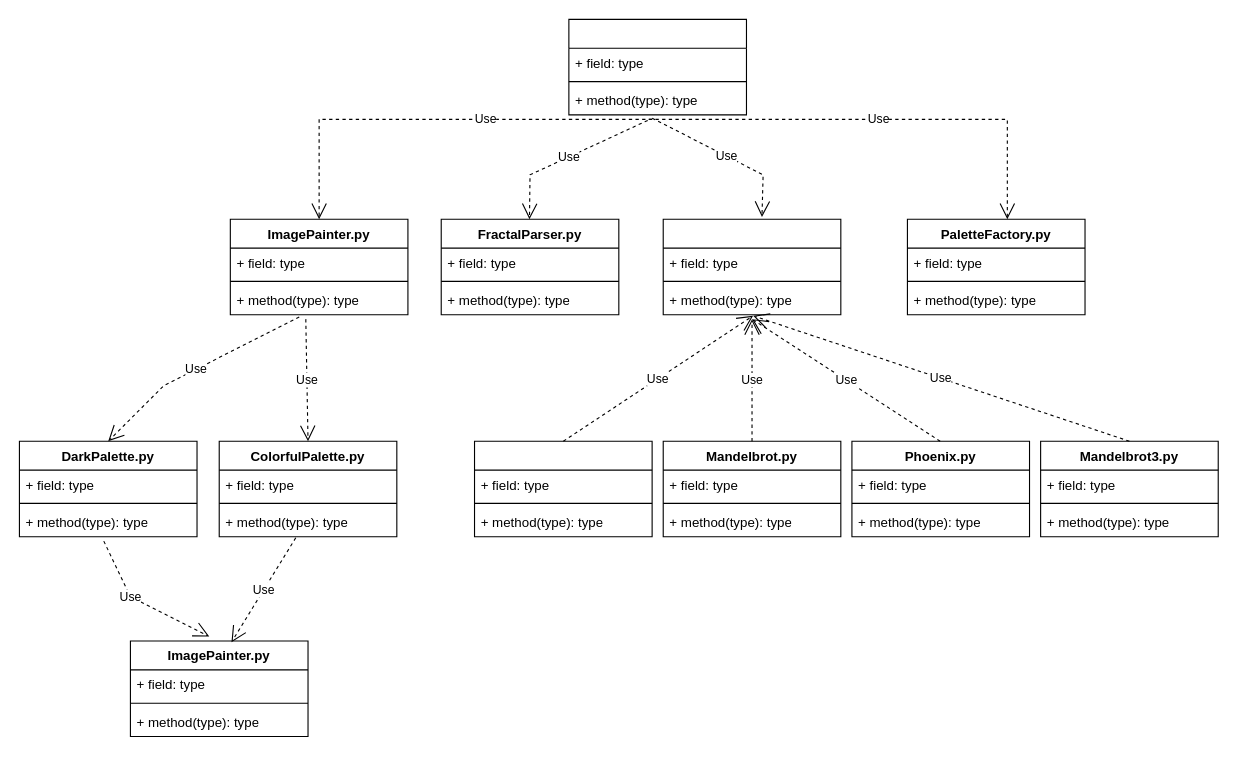
The diagram is 1238 pixels wide and 759 high, and some of its shapes have lost their labels. The shapes that lost their labels are listed below. From the top down, each one's box as (x1, y1, x2, y2) in pixels, then its label:
(568, 18, 746, 115): main.py
(662, 218, 841, 315): FractalFactory.py
(473, 440, 652, 537): Julia.py
